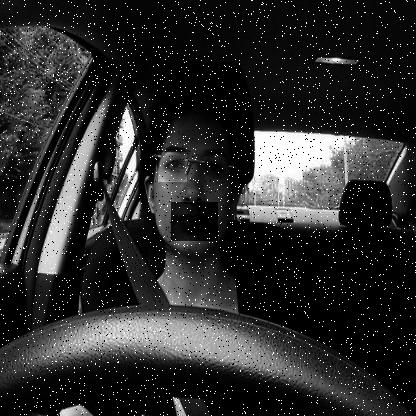seatbelt: (118, 78, 251, 416)
